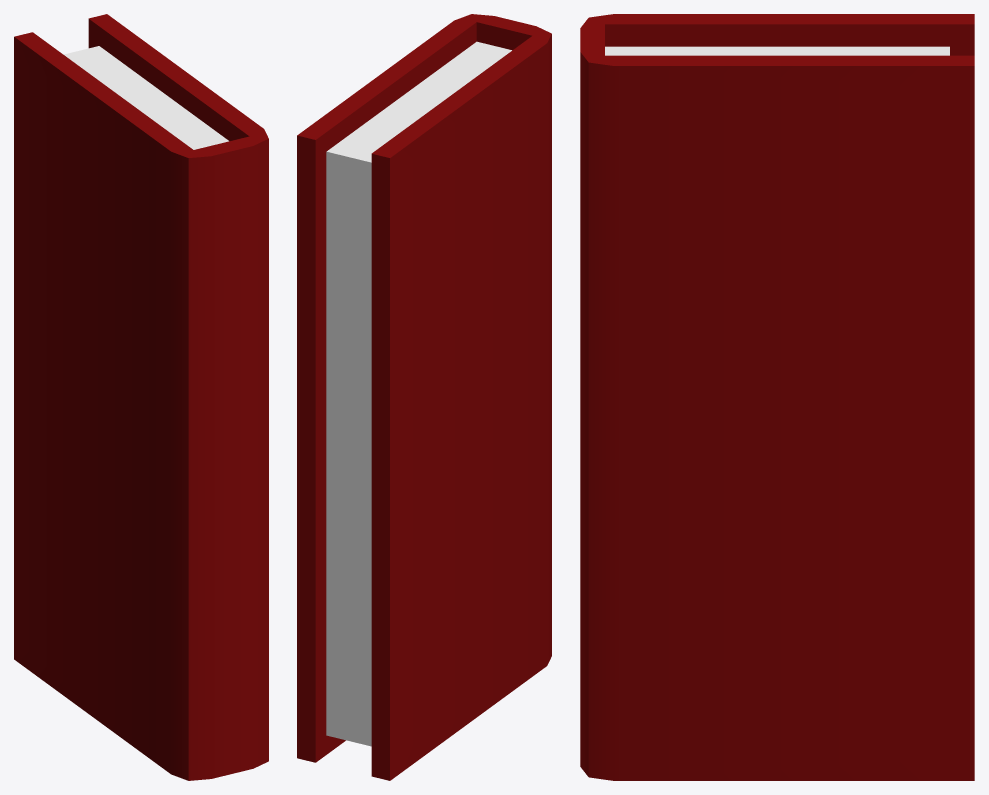
File: BOOK - RED.fbx
The picture shows the model from 3 angles, left to right: view 1: azimuth 30°, elevation 25°; view 2: azimuth 150°, elevation 25°; view 3: azimuth 270°, elevation 25°; orthographic projection. The views are drawn at different scales.
Parts seen in each view (by area): view 1: Box001, Object; view 2: Box001, Object; view 3: Box001, Object.
Boxes of the visible parts, x1,y1,x2,y2 form: Box001: (14, 14, 268, 780); Object: (64, 46, 228, 149); Box001: (297, 14, 551, 780); Object: (326, 41, 511, 746); Box001: (580, 14, 974, 780); Object: (605, 46, 949, 55).
Bounding box in the file's own units: 5 × 32 × 16.
